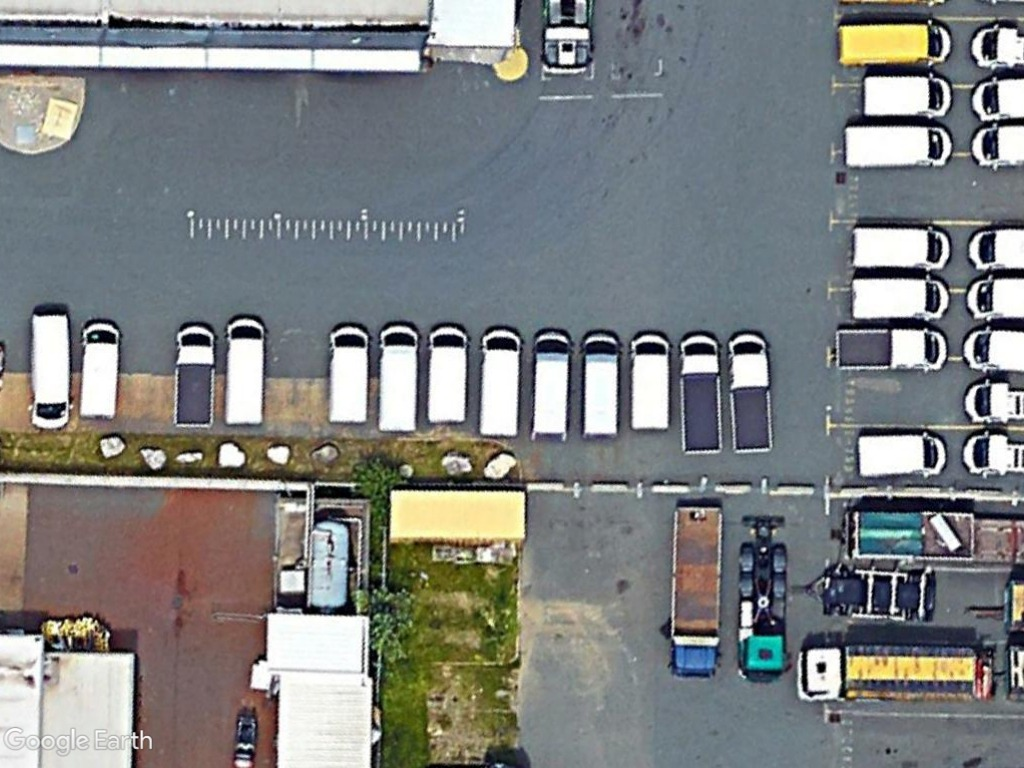others: (664, 497, 731, 684), (829, 321, 955, 379), (673, 325, 726, 461), (167, 315, 223, 433), (726, 325, 775, 459)
truck: (789, 639, 1001, 709)
van: (521, 321, 578, 446), (24, 303, 78, 433), (468, 321, 525, 442), (371, 313, 425, 438), (842, 268, 955, 327), (839, 119, 958, 175), (831, 16, 956, 68), (420, 318, 476, 427), (321, 318, 375, 430), (220, 312, 271, 430), (70, 313, 124, 424), (842, 219, 956, 271), (856, 67, 956, 125), (624, 327, 675, 439), (577, 324, 626, 440), (848, 429, 952, 481)
